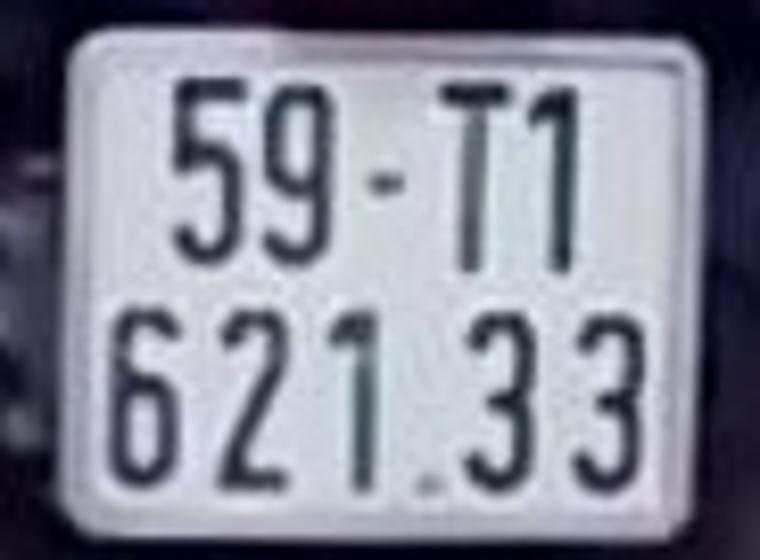-: (364, 167, 413, 200)
.: (413, 465, 446, 503)
1: (327, 305, 389, 502), (526, 81, 586, 275)
2: (214, 305, 300, 500)
3: (459, 305, 537, 501), (570, 307, 648, 497)
5: (164, 76, 244, 271)
6: (101, 301, 189, 497)
9: (259, 82, 339, 271)
T: (432, 78, 515, 272)
